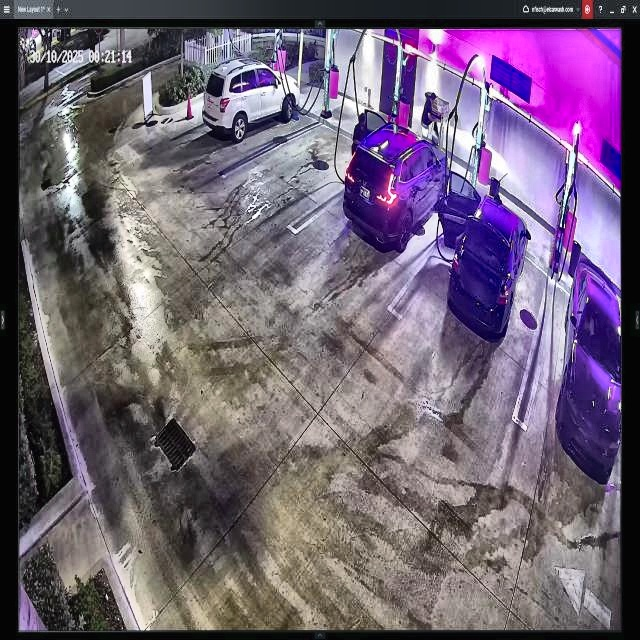Car: (344, 110, 448, 246), (445, 170, 528, 339)
